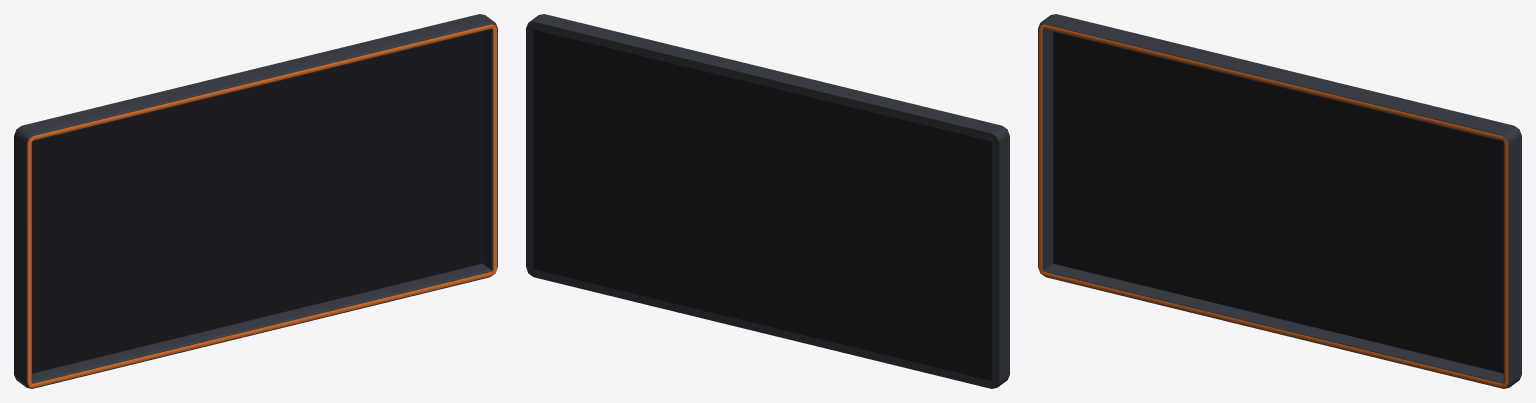
The model's file is MarcoTablero.fbx.
3 renders of one model, left to right at view 1: azimuth 30°, elevation 25°; view 2: azimuth 150°, elevation 25°; view 3: azimuth 330°, elevation 25°, orthographic.
Parts seen in each view (by area): view 1: MarcoTablero; view 2: MarcoTablero; view 3: MarcoTablero.
Part boxes in pixels (x1=…): MarcoTablero: x1=14, y1=14, x2=497, y2=388; MarcoTablero: x1=526, y1=14, x2=1009, y2=388; MarcoTablero: x1=1038, y1=14, x2=1521, y2=388.
Bounding box in the file's own units: 18.6 × 9.6 × 0.8.
Materials: 1 (1 with a texture image).
